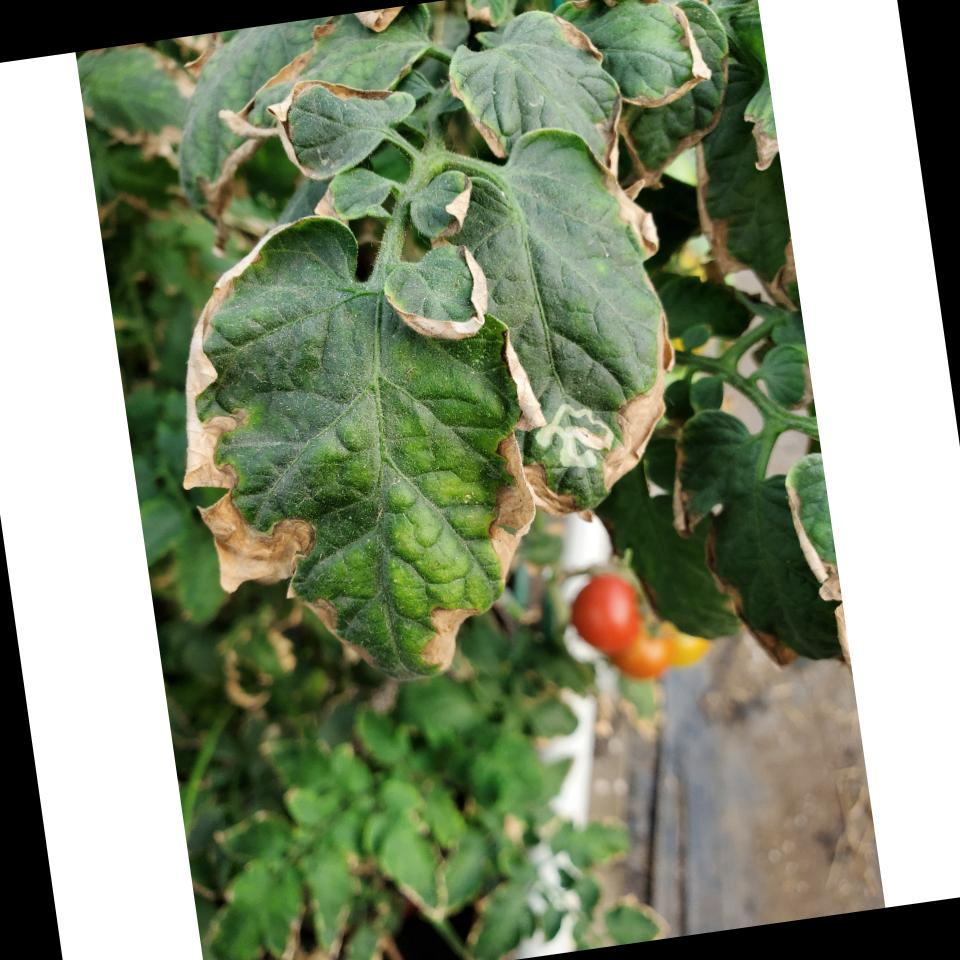tomato_bacterial_blight: (144, 192, 568, 721), (491, 121, 696, 528), (449, 4, 646, 190), (263, 59, 443, 202)
